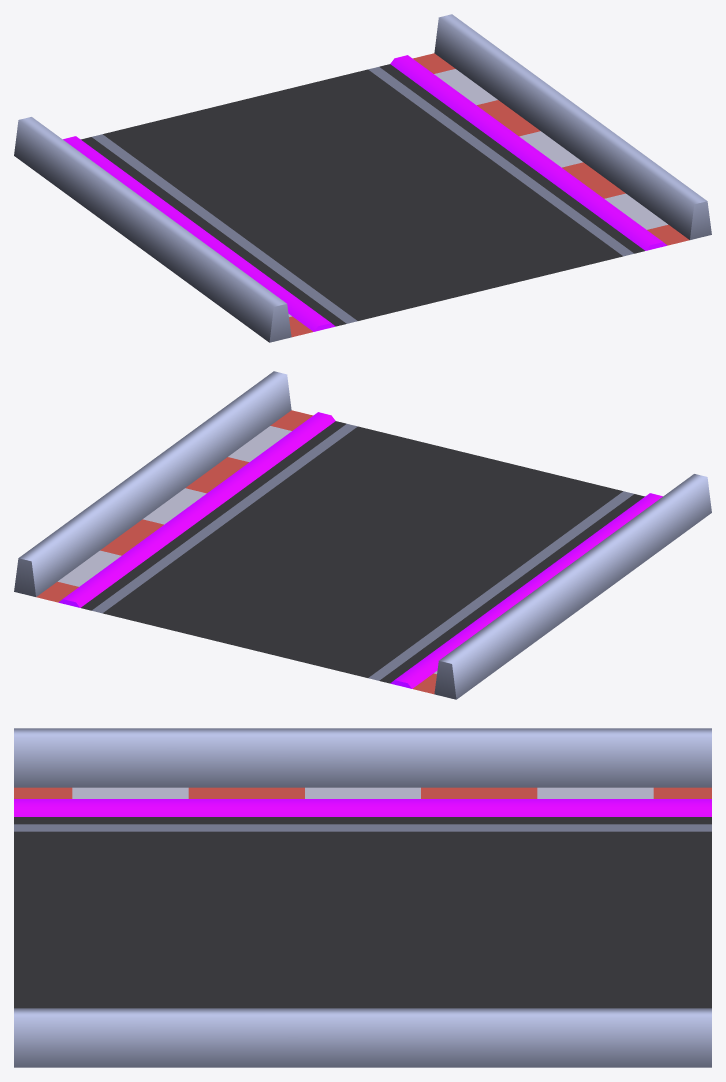
File: track-straight-night.glb
The picture shows the model from 3 angles, top to bottom: view 1: azimuth 30°, elevation 25°; view 2: azimuth 150°, elevation 25°; view 3: azimuth 270°, elevation 25°; orthographic projection. The views are drawn at different scales.
Parts seen in each view (by area): view 1: track-straight; view 2: track-straight; view 3: track-straight.
Boxes of the visible parts, box(x1,y1,x2,y2) form: track-straight: box(14, 14, 711, 342); track-straight: box(14, 371, 711, 699); track-straight: box(14, 728, 711, 1067).
Bounding box in the file's own units: 10 × 0.75 × 10.
Materials: 2 (1 with a texture image).
